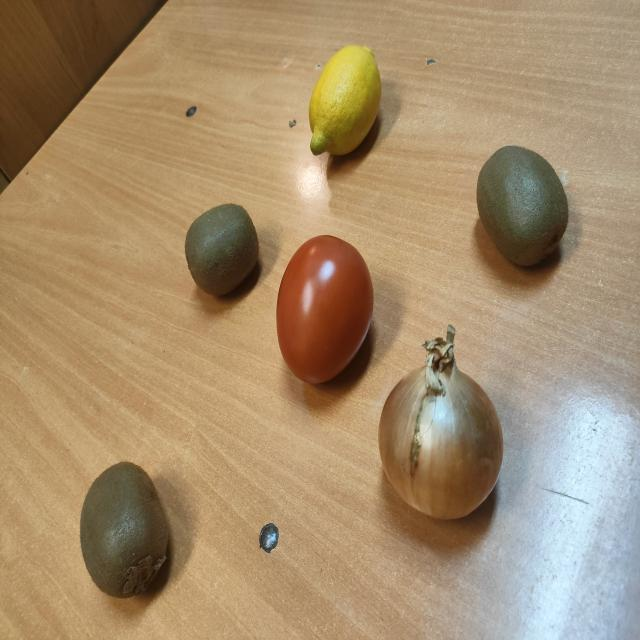kiwi: (476, 147, 569, 265), (185, 203, 259, 295)
lemon: (309, 45, 381, 155)
tomato: (276, 235, 374, 383)
